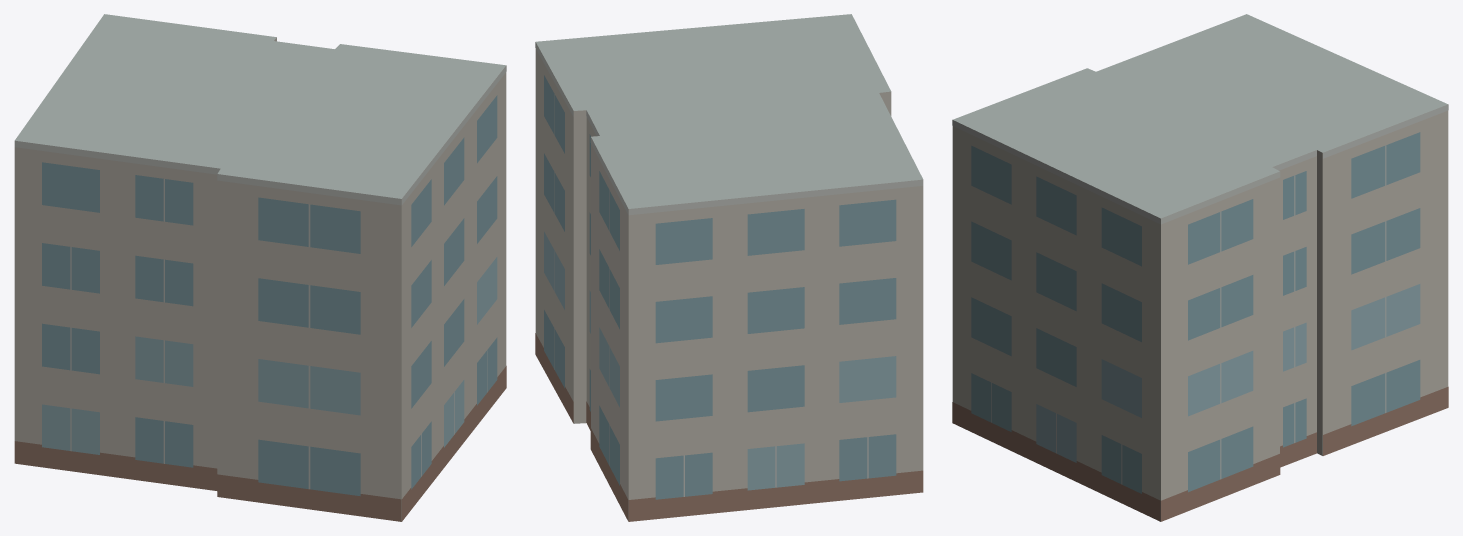
The model's file is survey-upis-32725824.glb.
3 renders of one model, left to right at view 1: azimuth 30°, elevation 25°; view 2: azimuth 150°, elevation 25°; view 3: azimuth 270°, elevation 25°, orthographic. The views are drawn at different scales.
Parts seen in each view (by area): view 1: survey-upis-32725824.tmp; view 2: survey-upis-32725824.tmp; view 3: survey-upis-32725824.tmp.
Part boxes in pixels (x1,y1,x2,y2): survey-upis-32725824.tmp: (14, 14, 506, 521); survey-upis-32725824.tmp: (535, 14, 923, 521); survey-upis-32725824.tmp: (952, 14, 1448, 521).
Size of the model in its own units: 17.65 by 12.2 by 18.08.
